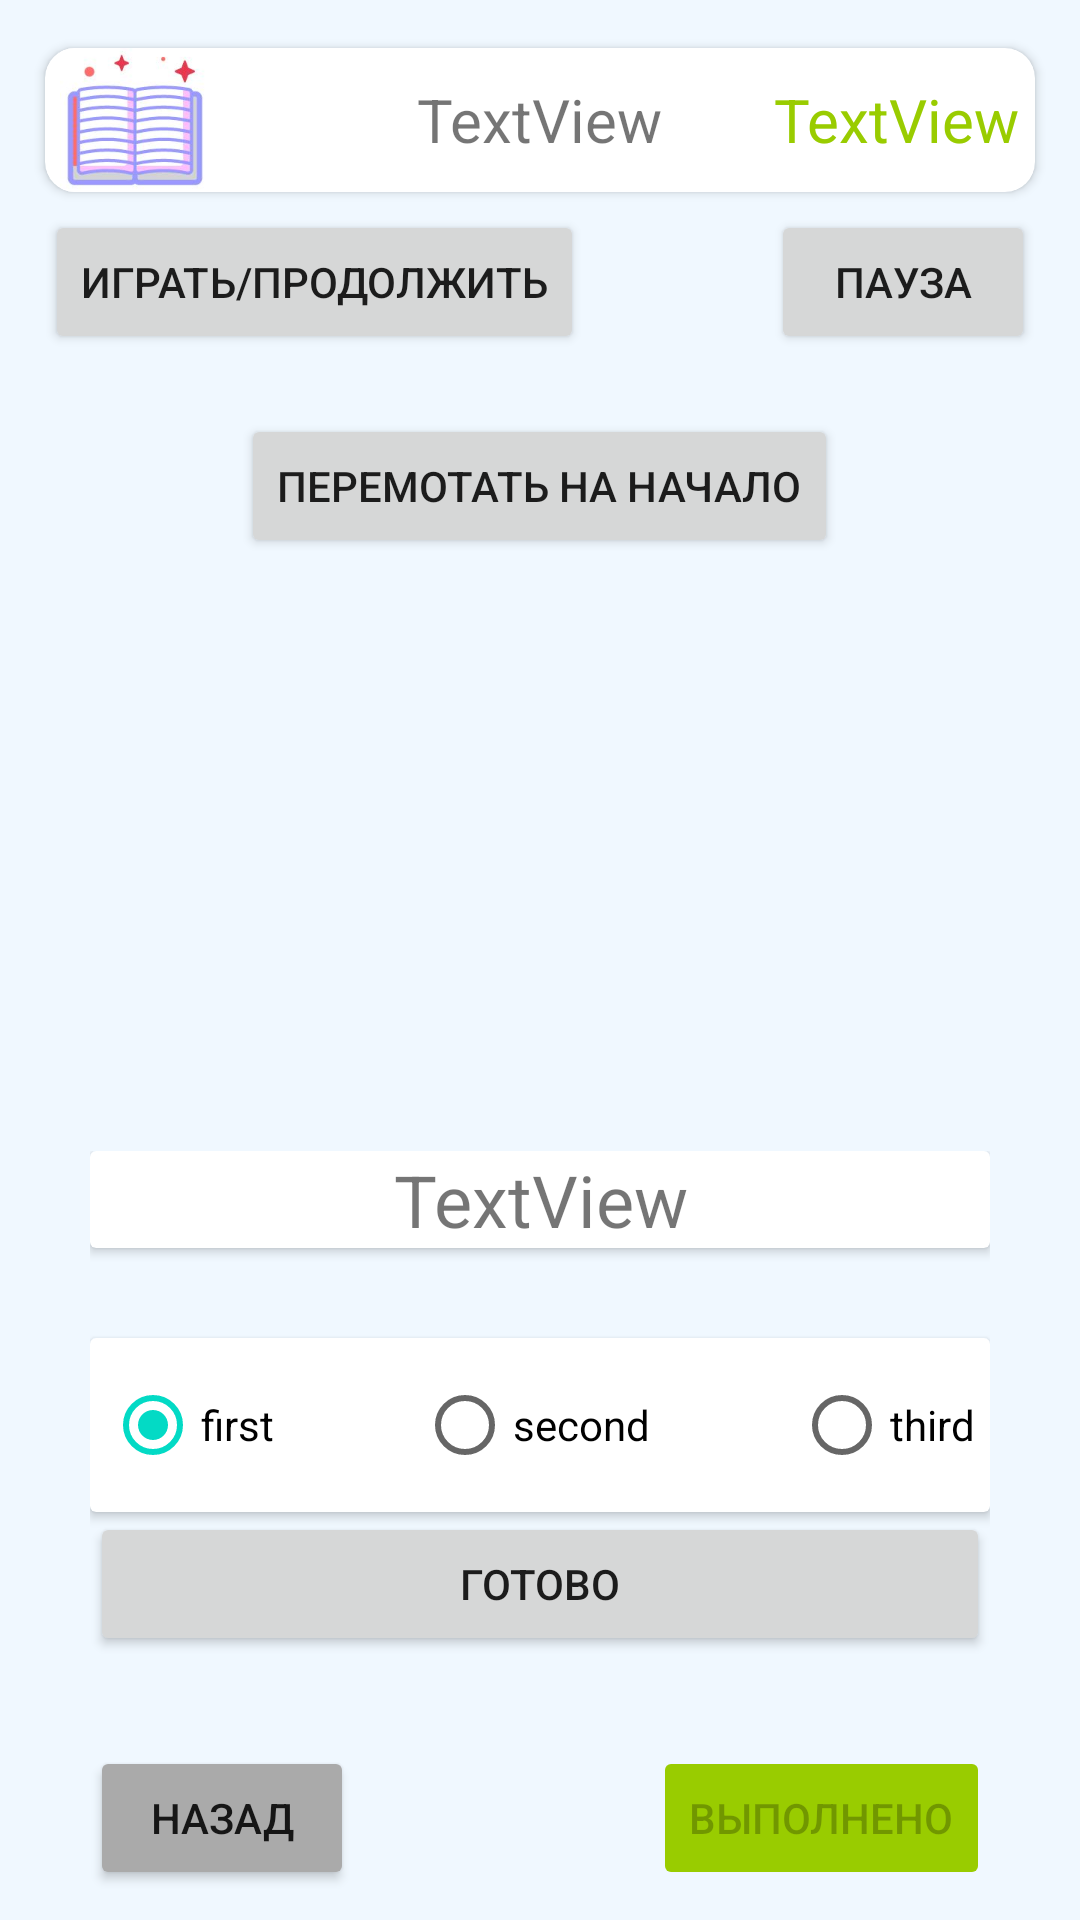

Where icons sit on this 1080 × 1920 app screen, as (x1, y1, x2, y2):
book: (60, 46, 210, 195)
